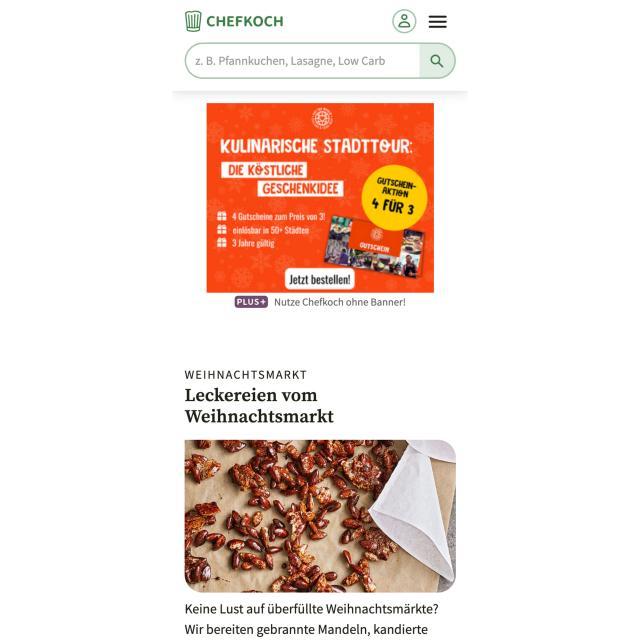CheckBox: (418, 42, 456, 78)
CheckedTextView: (183, 41, 456, 80)
ImageView: (206, 103, 434, 293)
Input field: (183, 599, 442, 640), (273, 297, 409, 310)
RadioButton: (233, 296, 269, 308)
accordion: (171, 89, 469, 101)
bag: (172, 0, 466, 98)
breadcrumbs: (182, 386, 338, 428)
carousel: (391, 7, 417, 34)
copy: (184, 438, 456, 594)
date picker: (183, 8, 289, 35)
decoration: (426, 12, 452, 32)
footer: (193, 54, 387, 69)
